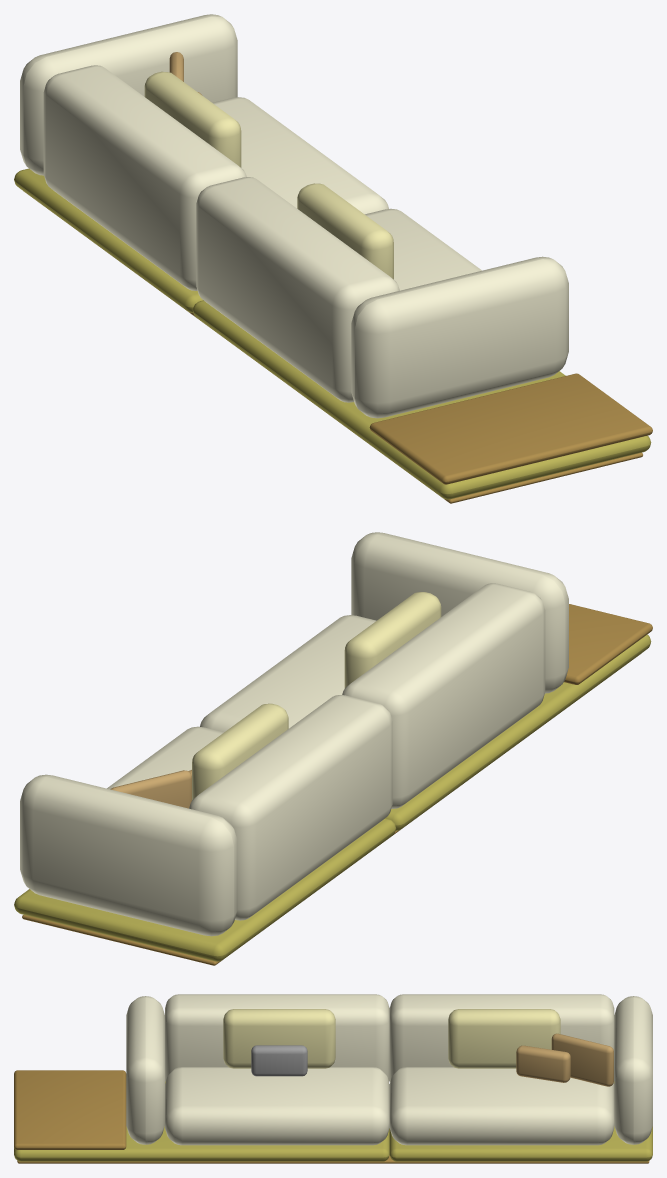
File: sofa.glb
The picture shows the model from 3 angles, top to bottom: view 1: azimuth 30°, elevation 25°; view 2: azimuth 150°, elevation 25°; view 3: azimuth 270°, elevation 25°; orthographic projection. The views are drawn at different scales.
Parts seen in each view (by area): view 1: ChamferBox005, ChamferBox008, ChamferBox007, ChamferBox009, ChamferBox006, ChamferBox001, ChamferBox004, ChamferBox002, ChamferBox003, ChamferBox012, ChamferBox011, ChamferBox010; view 2: ChamferBox006, ChamferBox007, ChamferBox008, ChamferBox005, ChamferBox002, ChamferBox003, ChamferBox001, ChamferBox009, ChamferBox011, ChamferBox012, ChamferBox004, ChamferBox015 (+1 smaller); view 3: ChamferBox003, ChamferBox004, ChamferBox008, ChamferBox009, ChamferBox007, ChamferBox001, ChamferBox012, ChamferBox005, ChamferBox006, ChamferBox011, ChamferBox002, ChamferBox015 (+3 smaller).
Boxes of the visible parts, <box> form: ChamferBox005: <box>351,256,568,418</box>; ChamferBox008: <box>196,177,399,402</box>; ChamferBox007: <box>43,65,246,290</box>; ChamferBox009: <box>369,373,652,484</box>; ChamferBox006: <box>20,14,237,175</box>; ChamferBox001: <box>192,300,651,499</box>; ChamferBox004: <box>212,97,388,214</box>; ChamferBox002: <box>14,168,202,312</box>; ChamferBox003: <box>365,208,481,290</box>; ChamferBox012: <box>144,71,241,167</box>; ChamferBox011: <box>297,183,393,279</box>; ChamferBox010: <box>23,191,642,503</box>; ChamferBox006: <box>20,774,237,936</box>; ChamferBox007: <box>189,695,392,920</box>; ChamferBox008: <box>342,583,545,808</box>; ChamferBox005: <box>351,532,568,693</box>; ChamferBox002: <box>14,818,396,961</box>; ChamferBox003: <box>200,615,376,732</box>; ChamferBox001: <box>385,634,651,830</box>; ChamferBox009: <box>564,604,652,684</box>; ChamferBox011: <box>344,592,441,688</box>; ChamferBox012: <box>192,703,288,800</box>; ChamferBox004: <box>107,726,223,789</box>; ChamferBox015: <box>110,770,191,808</box>; ChamferBox003: <box>165,1067,389,1145</box>; ChamferBox004: <box>389,1067,614,1145</box>; ChamferBox008: <box>165,994,389,1081</box>; ChamferBox009: <box>14,1070,126,1149</box>; ChamferBox007: <box>389,994,614,1082</box>; ChamferBox001: <box>14,1081,389,1161</box>; ChamferBox012: <box>448,1009,560,1068</box>; ChamferBox005: <box>126,996,164,1144</box>; ChamferBox006: <box>614,996,652,1144</box>; ChamferBox011: <box>223,1009,335,1068</box>; ChamferBox002: <box>389,1081,652,1161</box>; ChamferBox015: <box>551,1033,613,1086</box>.
Size of the model in its own units: 1.02 by 0.69 by 3.64.
